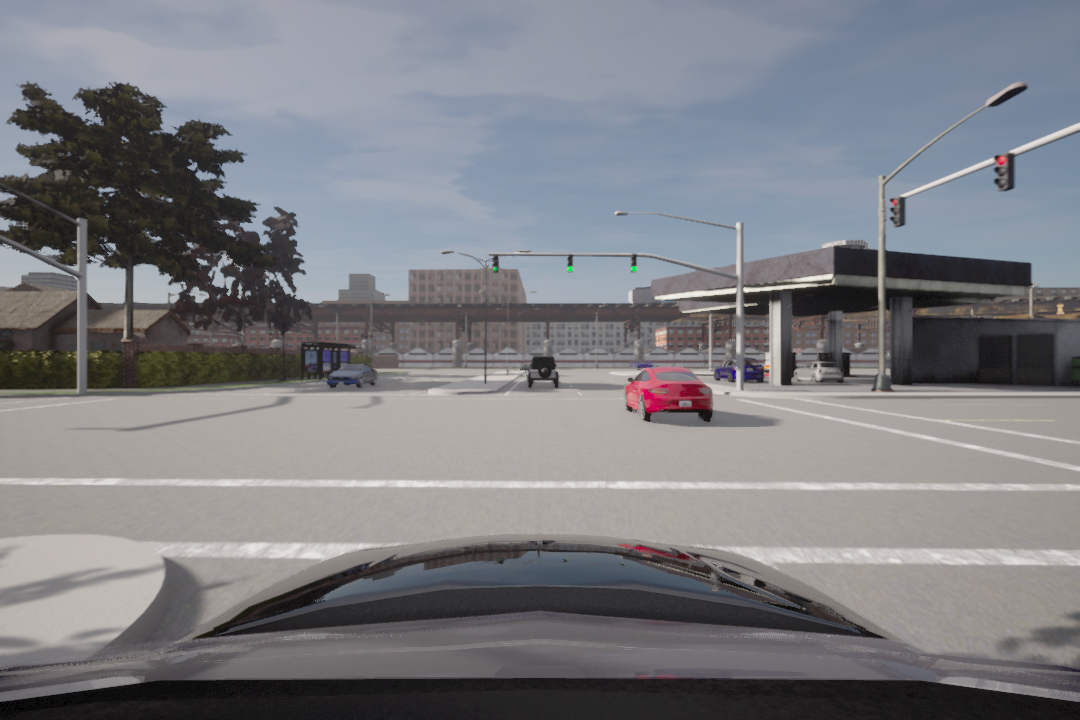TrafficLight: (994, 152, 1017, 193), (884, 194, 907, 227), (487, 253, 502, 273), (564, 251, 576, 274), (628, 254, 639, 274)
